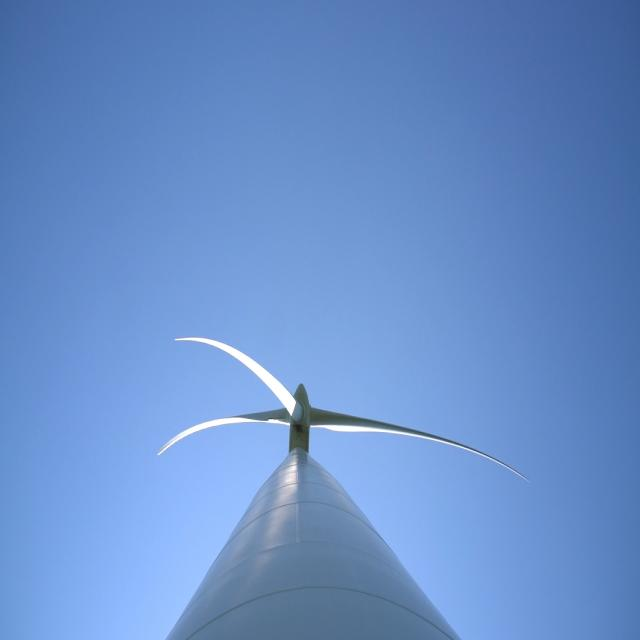blade 1: (119, 392, 280, 464)
blade 2: (170, 302, 285, 385)
blade 3: (331, 389, 518, 491)
